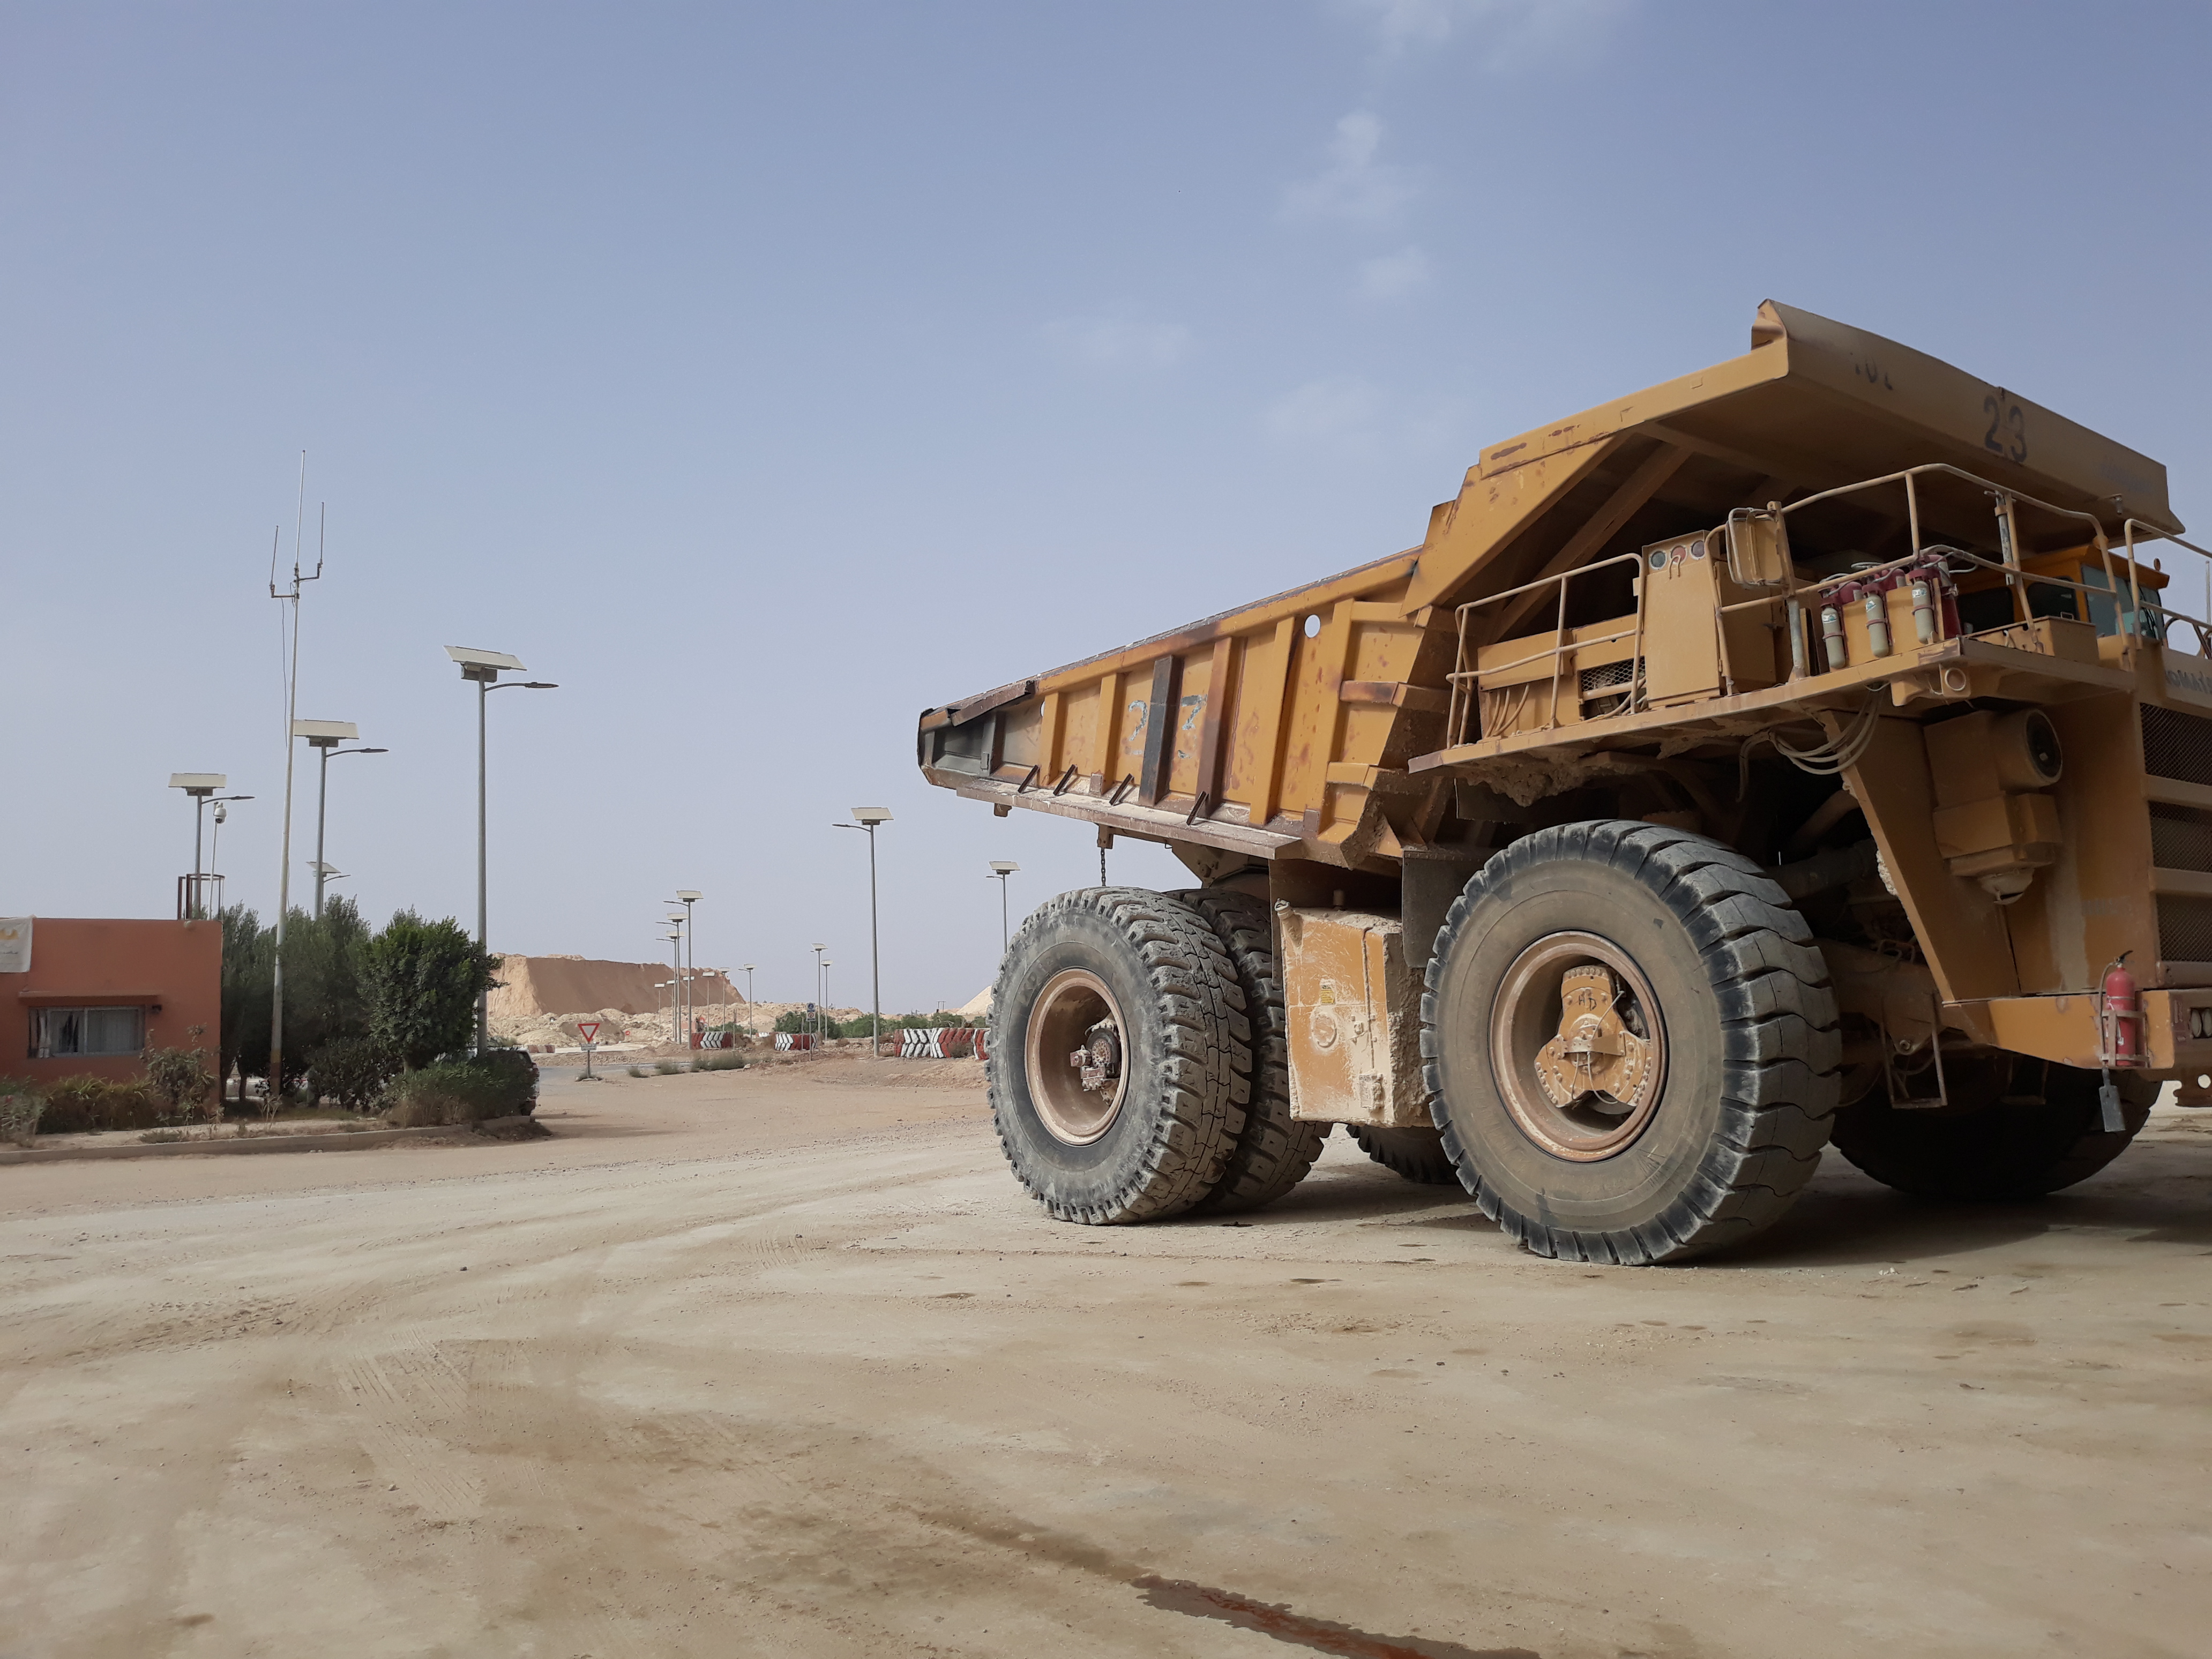camion: (904, 275, 2212, 1291)
